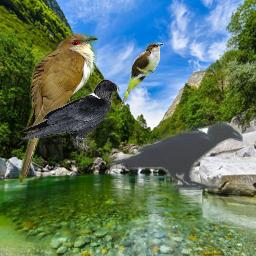Crow: (107, 121, 243, 190), (17, 79, 121, 153)
Cuckoo: (17, 33, 99, 184), (118, 42, 164, 111)
